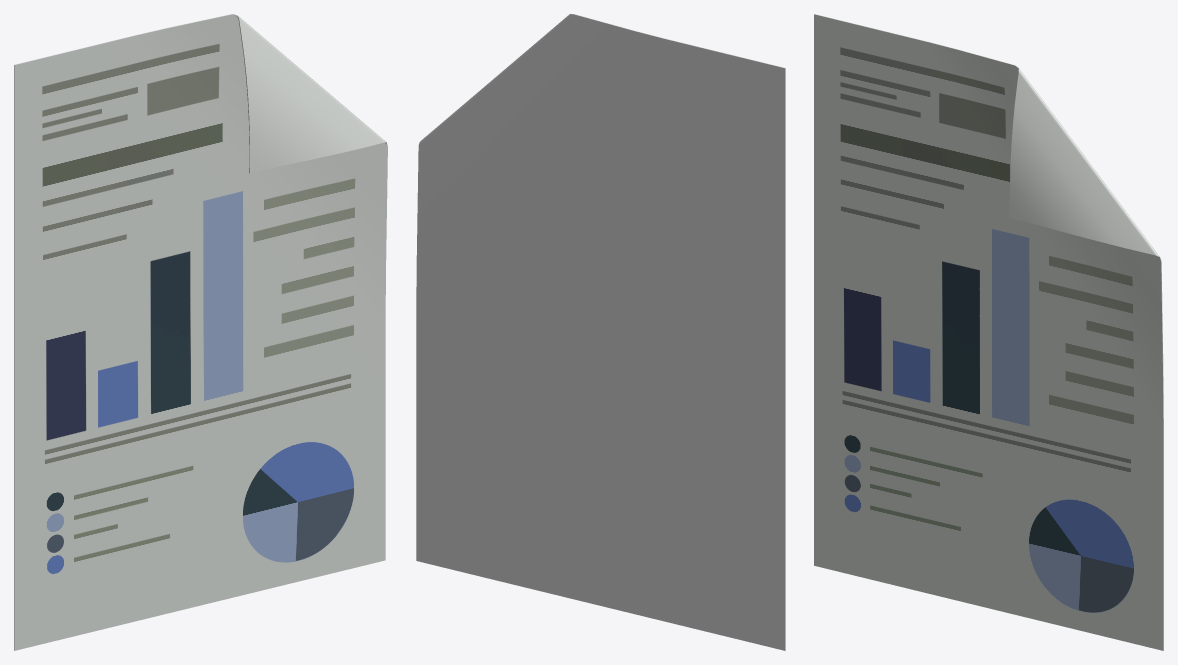
File: dokument.fbx
The picture shows the model from 3 angles, left to right: view 1: azimuth 30°, elevation 25°; view 2: azimuth 150°, elevation 25°; view 3: azimuth 330°, elevation 25°; orthographic projection. The views are drawn at different scales.
Parts seen in each view (by area): view 1: node_id51; view 2: node_id51; view 3: node_id51.
Part boxes in pixels (x1,y1,x2,y2): node_id51: (14, 14, 387, 650); node_id51: (416, 14, 785, 650); node_id51: (814, 14, 1163, 650).
Bounding box in the file's own units: 0.2492 × 0.3758 × 0.0167.
1 material, 1 textured.
